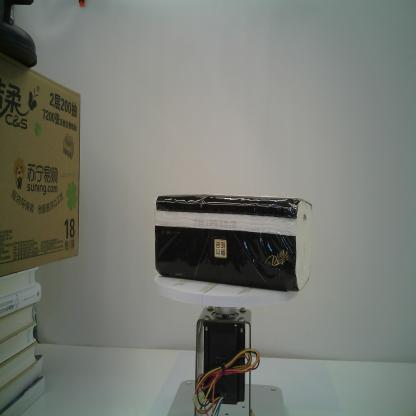Tissue: (154, 194, 313, 292)
